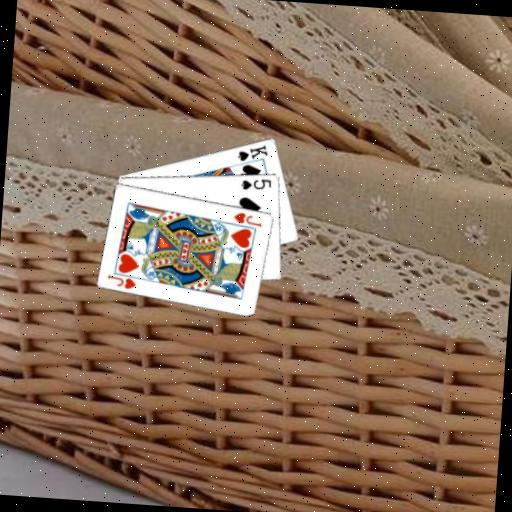5S: (238, 175, 274, 193)
JH: (230, 209, 264, 228), (104, 271, 138, 290)
KS: (234, 140, 270, 164)
